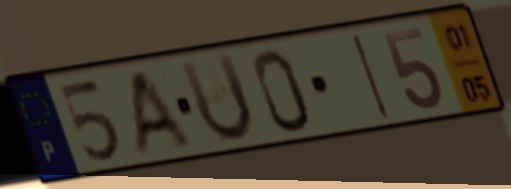0: (248, 45, 315, 135)
5: (55, 75, 123, 165), (378, 24, 445, 112)
A: (128, 66, 195, 161)
I: (348, 29, 394, 123)
U: (175, 49, 258, 147)
